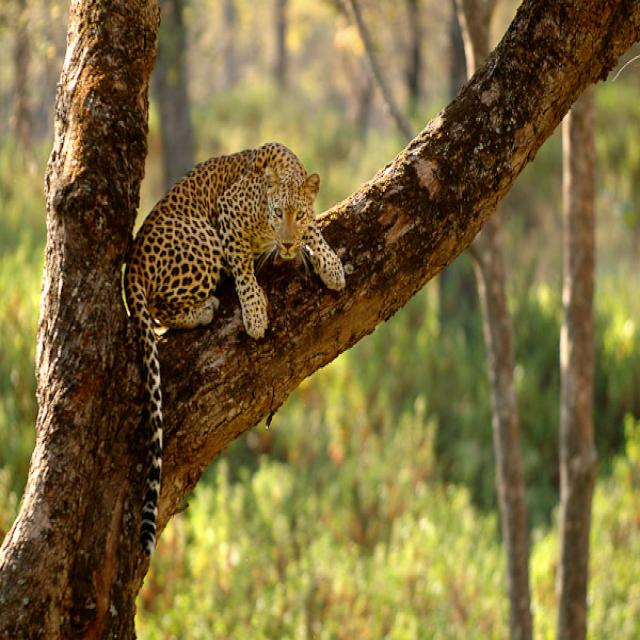Leopard: (124, 141, 342, 553)
